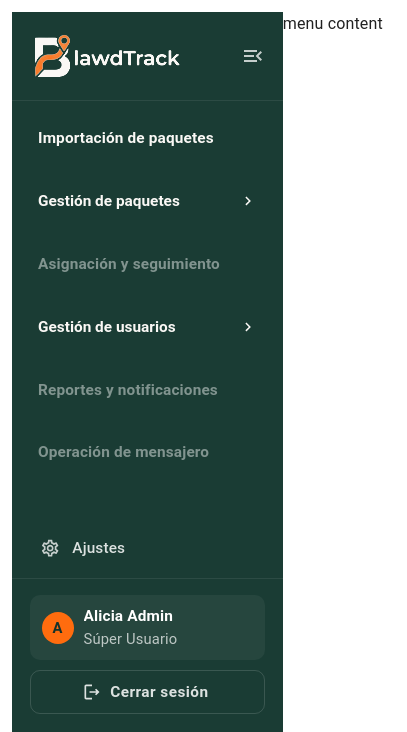
Test case: MainMenuLayout sidebar › takes the super user straight to the import screen from "Importación de paquetes", with nothing to open
Click the link "Importación de paquetes" at (126, 138), box [38,129,214,147]
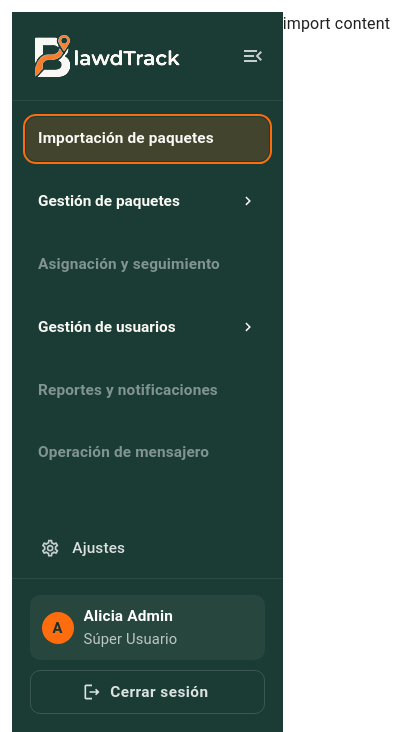
Expected: the text "import content" is shown, [283,14,390,33]
